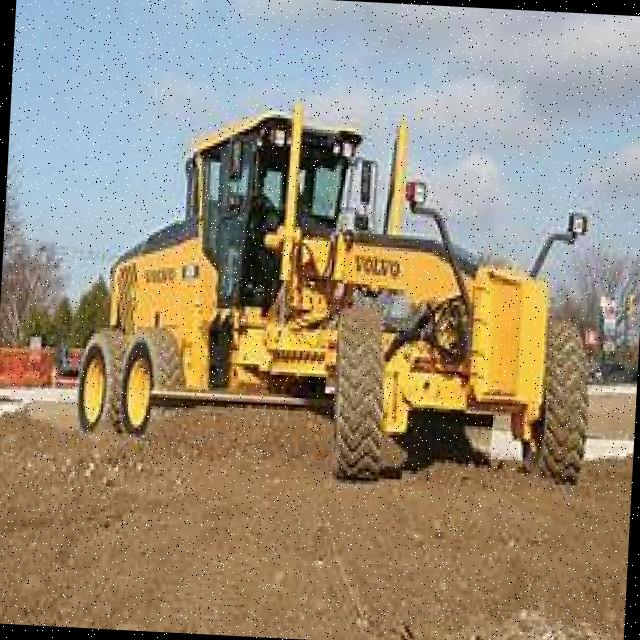Grader: (49, 94, 616, 518)
